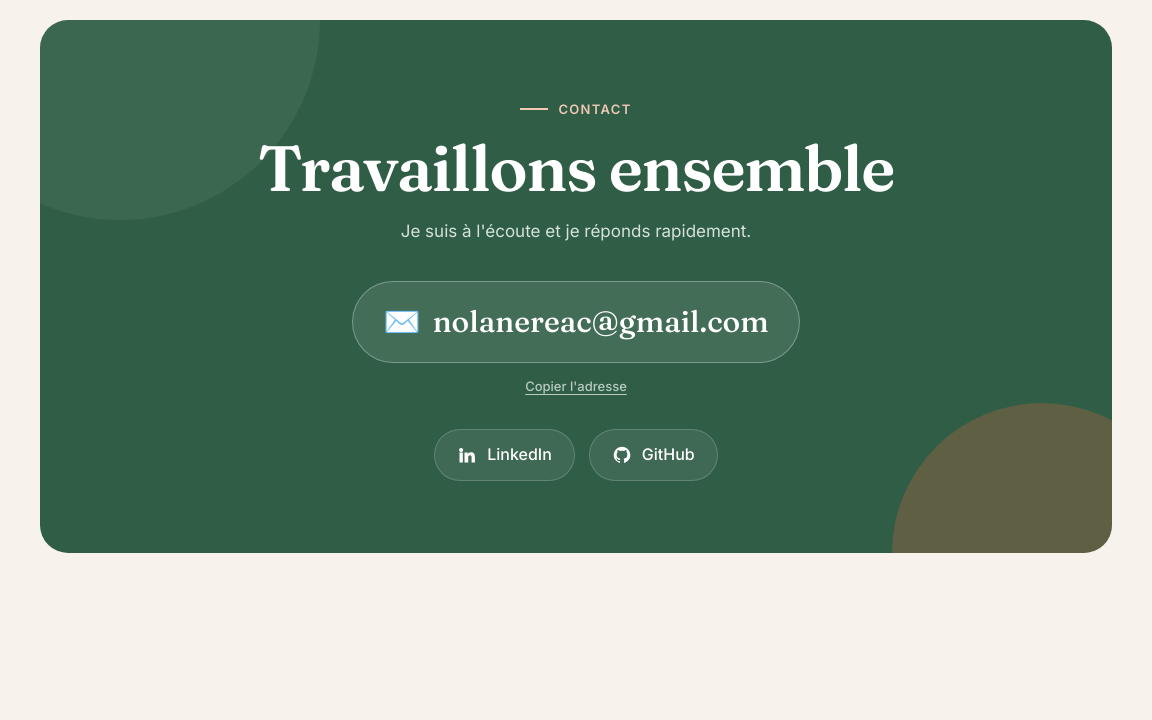
Test: <Contact /> › copie l'adresse mail et affiche une confirmation
The image size is (1152, 720).
Click the button "Copier l'adresse".
click(576, 386)  # box [519,377,633,395]
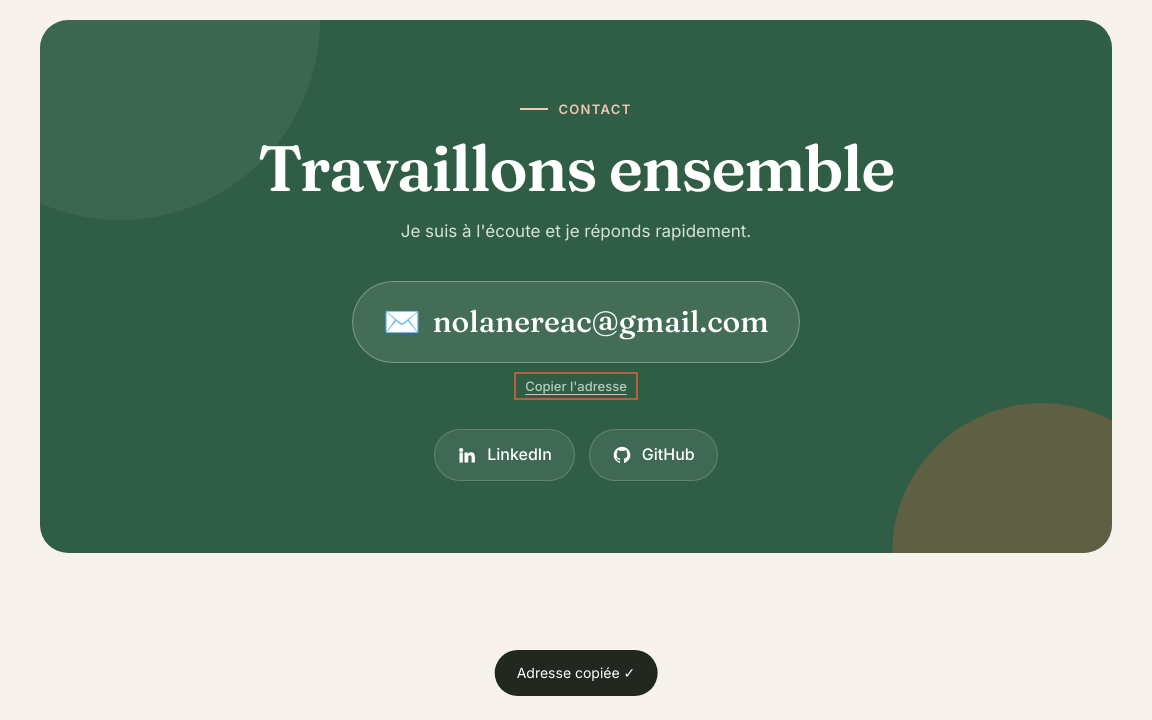
expect the text "Adresse copiée ✓" is shown: met, box [495,650,657,696]
